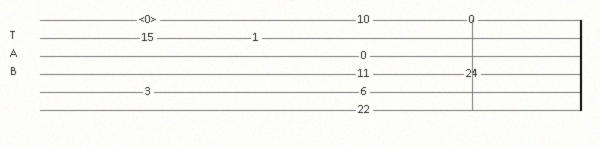0: (361, 50, 371, 62), (469, 14, 479, 26)
1: (253, 32, 263, 44)
10: (358, 14, 374, 26)
11: (358, 68, 374, 80)
15: (142, 32, 158, 44)
22: (358, 104, 374, 116)
24: (466, 68, 482, 80)
3: (145, 86, 155, 98)
6: (361, 86, 371, 98)
harmonic: (139, 14, 161, 26)
